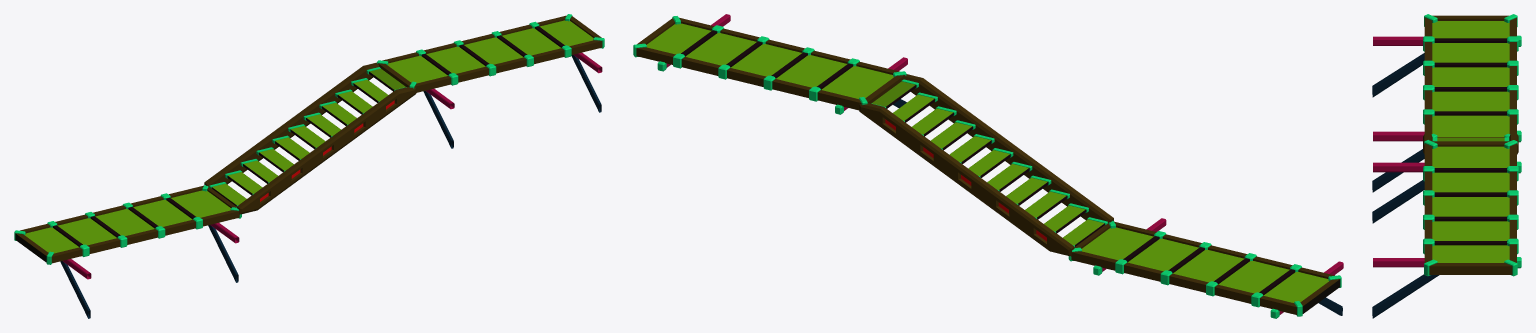
File: OBJ_Plateforme_Rampe_Double.fbx
3 renders of one model, left to right at view 1: azimuth 30°, elevation 25°; view 2: azimuth 150°, elevation 25°; view 3: azimuth 270°, elevation 25°, orthographic. The views are drawn at different scales.
Parts seen in each view (by area): view 1: OBJ_Plateforme_Rampe_Double; view 2: OBJ_Plateforme_Rampe_Double; view 3: OBJ_Plateforme_Rampe_Double.
Boxes of the visible parts, x1=… form: OBJ_Plateforme_Rampe_Double: x1=14, y1=14, x2=604, y2=318; OBJ_Plateforme_Rampe_Double: x1=633, y1=14, x2=1343, y2=318; OBJ_Plateforme_Rampe_Double: x1=1372, y1=14, x2=1521, y2=318.
Size of the model in its own units: 88.57 by 20.41 by 15.59.
